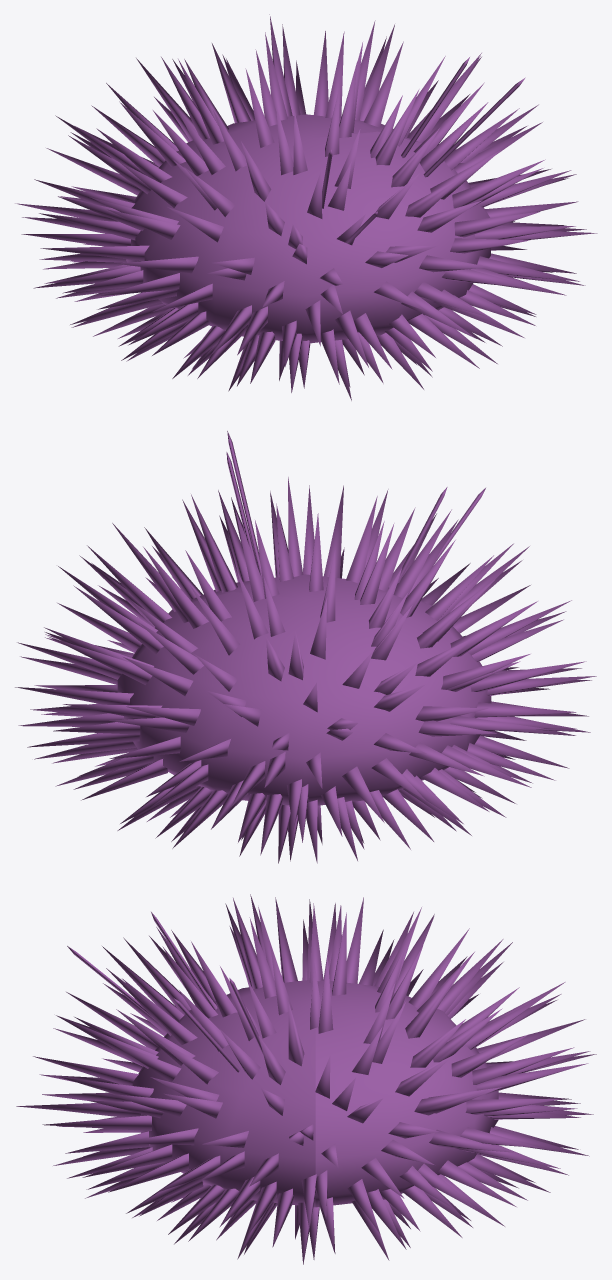
File: sea_urchin_purple_game.glb
3 renders of one model, top to bottom at view 1: azimuth 30°, elevation 25°; view 2: azimuth 150°, elevation 25°; view 3: azimuth 270°, elevation 25°, orthographic. The views are drawn at different scales.
Parts seen in each view (by area): view 1: sea_urchin_purple_game; view 2: sea_urchin_purple_game; view 3: sea_urchin_purple_game.
Boxes of the visible parts, x1,y1,x2,y2 form: sea_urchin_purple_game: (15,14,597,400); sea_urchin_purple_game: (15,431,596,863); sea_urchin_purple_game: (16,894,596,1264).
Size of the model in its own units: 0.1258 by 0.0647 by 0.1244.
